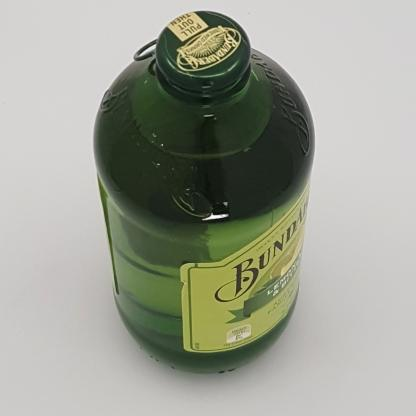------------375ML: (93, 11, 315, 374)
